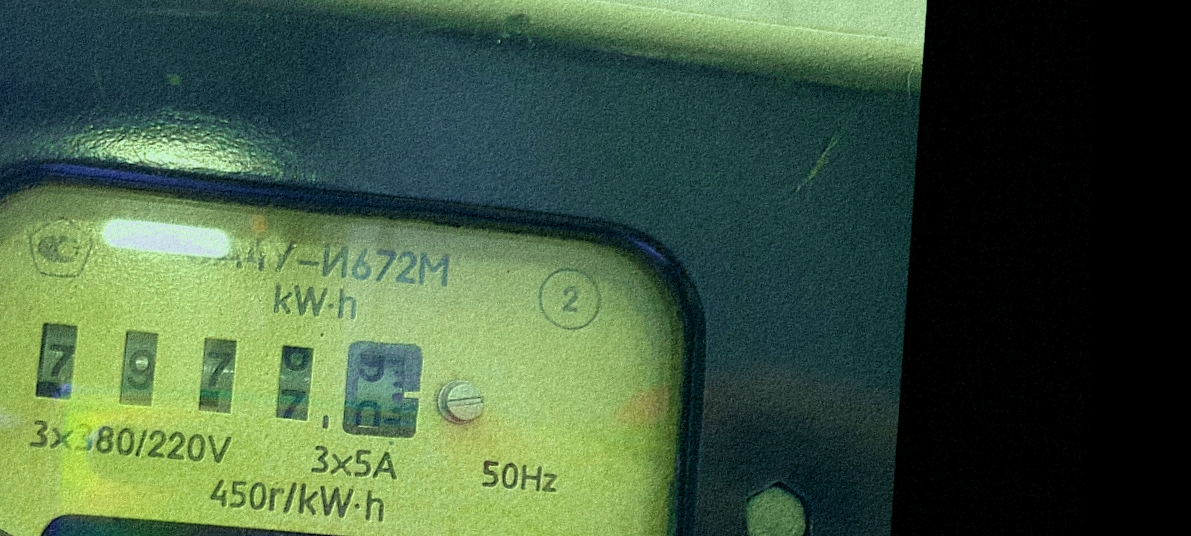0: (350, 394, 386, 434)
7: (43, 339, 76, 384), (202, 347, 235, 391), (276, 385, 308, 423)
9: (122, 345, 159, 393), (355, 347, 389, 384)
screen: (13, 298, 449, 463)
